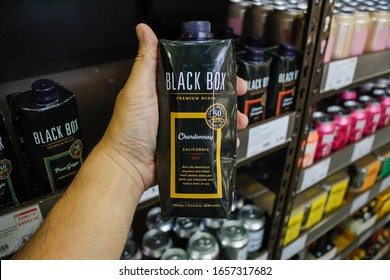carton: (153, 19, 240, 228), (5, 76, 89, 197)
